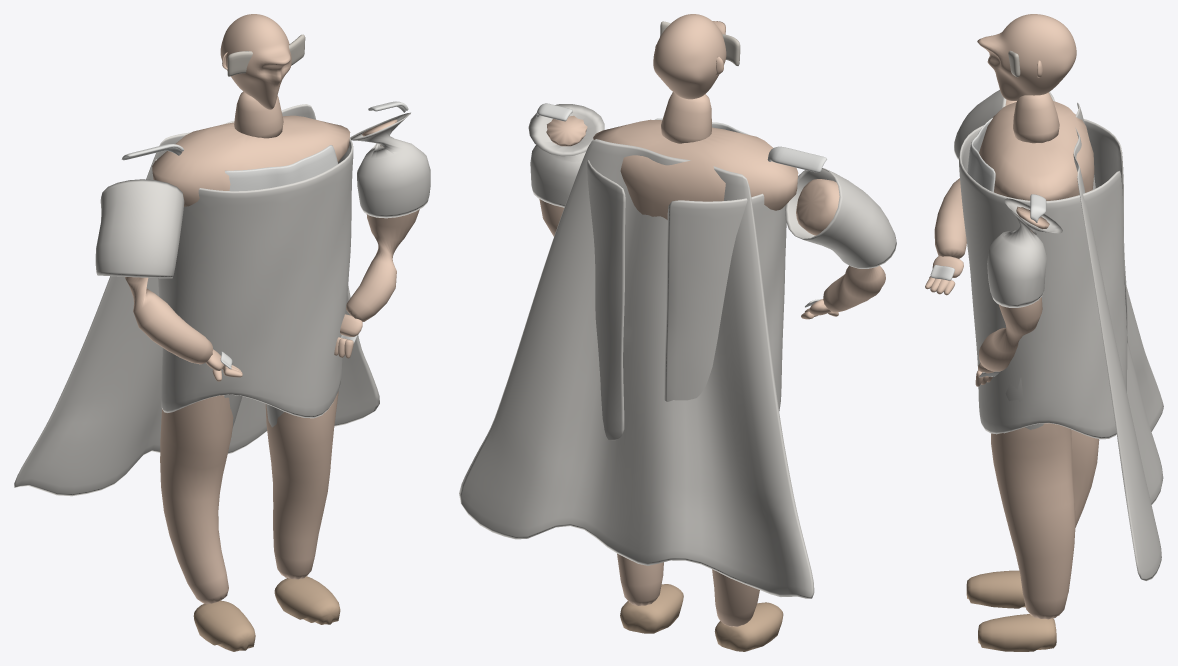
File: monolith_brute.glb
3 views of the same model, side by side, from view 1: azimuth 30°, elevation 25°; view 2: azimuth 150°, elevation 25°; view 3: azimuth 270°, elevation 25° (orthographic). The views are drawn at different scales.
Visible parts, largest first — view 1: Robe, Cape, LegR, LegL, Body, SleeveR, SleeveL, Head, ArmL, ArmR, Plate, BootR (+3 smaller); view 2: Cape, Robe, Body, SleeveR, Head, SleeveL, ArmR, Neck, BootR, BootL, LegR, LegL (+2 smaller); view 3: Robe, LegL, Cape, Body, Head, SleeveL, ArmL, BootL, Neck, BootR, ArmR, LegR (+4 smaller).
Part boxes in pixels (x1=…): Robe: x1=155, y1=138, x2=353, y2=418; Cape: x1=14, y1=104, x2=379, y2=496; LegR: x1=160, y1=395, x2=233, y2=604; LegL: x1=265, y1=391, x2=338, y2=579; Body: x1=152, y1=115, x2=350, y2=206; SleeveR: x1=95, y1=179, x2=184, y2=278; SleeveL: x1=350, y1=112, x2=430, y2=218; Head: x1=220, y1=14, x2=291, y2=109; ArmL: x1=346, y1=119, x2=419, y2=321; ArmR: x1=125, y1=277, x2=212, y2=364; Plate: x1=225, y1=145, x2=343, y2=224; BootR: x1=193, y1=600, x2=255, y2=651; Cape: x1=459, y1=139, x2=814, y2=598; Robe: x1=587, y1=160, x2=786, y2=440; Body: x1=593, y1=119, x2=798, y2=219; SleeveR: x1=785, y1=168, x2=896, y2=268; Head: x1=653, y1=14, x2=726, y2=99; SleeveL: x1=528, y1=104, x2=604, y2=207; ArmR: x1=796, y1=179, x2=885, y2=312; Neck: x1=661, y1=92, x2=711, y2=143; BootR: x1=714, y1=602, x2=783, y2=651; BootL: x1=620, y1=584, x2=683, y2=633; LegR: x1=712, y1=569, x2=759, y2=626; LegL: x1=617, y1=553, x2=663, y2=605; Robe: x1=959, y1=119, x2=1128, y2=439; LegL: x1=991, y1=423, x2=1075, y2=619; Cape: x1=1073, y1=102, x2=1163, y2=580; Body: x1=979, y1=101, x2=1094, y2=200; Head: x1=977, y1=14, x2=1076, y2=100; SleeveL: x1=987, y1=198, x2=1062, y2=307; ArmL: x1=979, y1=206, x2=1049, y2=371; BootL: x1=978, y1=614, x2=1056, y2=651; Neck: x1=1013, y1=92, x2=1059, y2=143; BootR: x1=966, y1=570, x2=1025, y2=608; ArmR: x1=934, y1=99, x2=1016, y2=258; LegR: x1=1071, y1=430, x2=1099, y2=527.
Bounding box in the file's own units: 1.11 × 1.79 × 0.6403.
